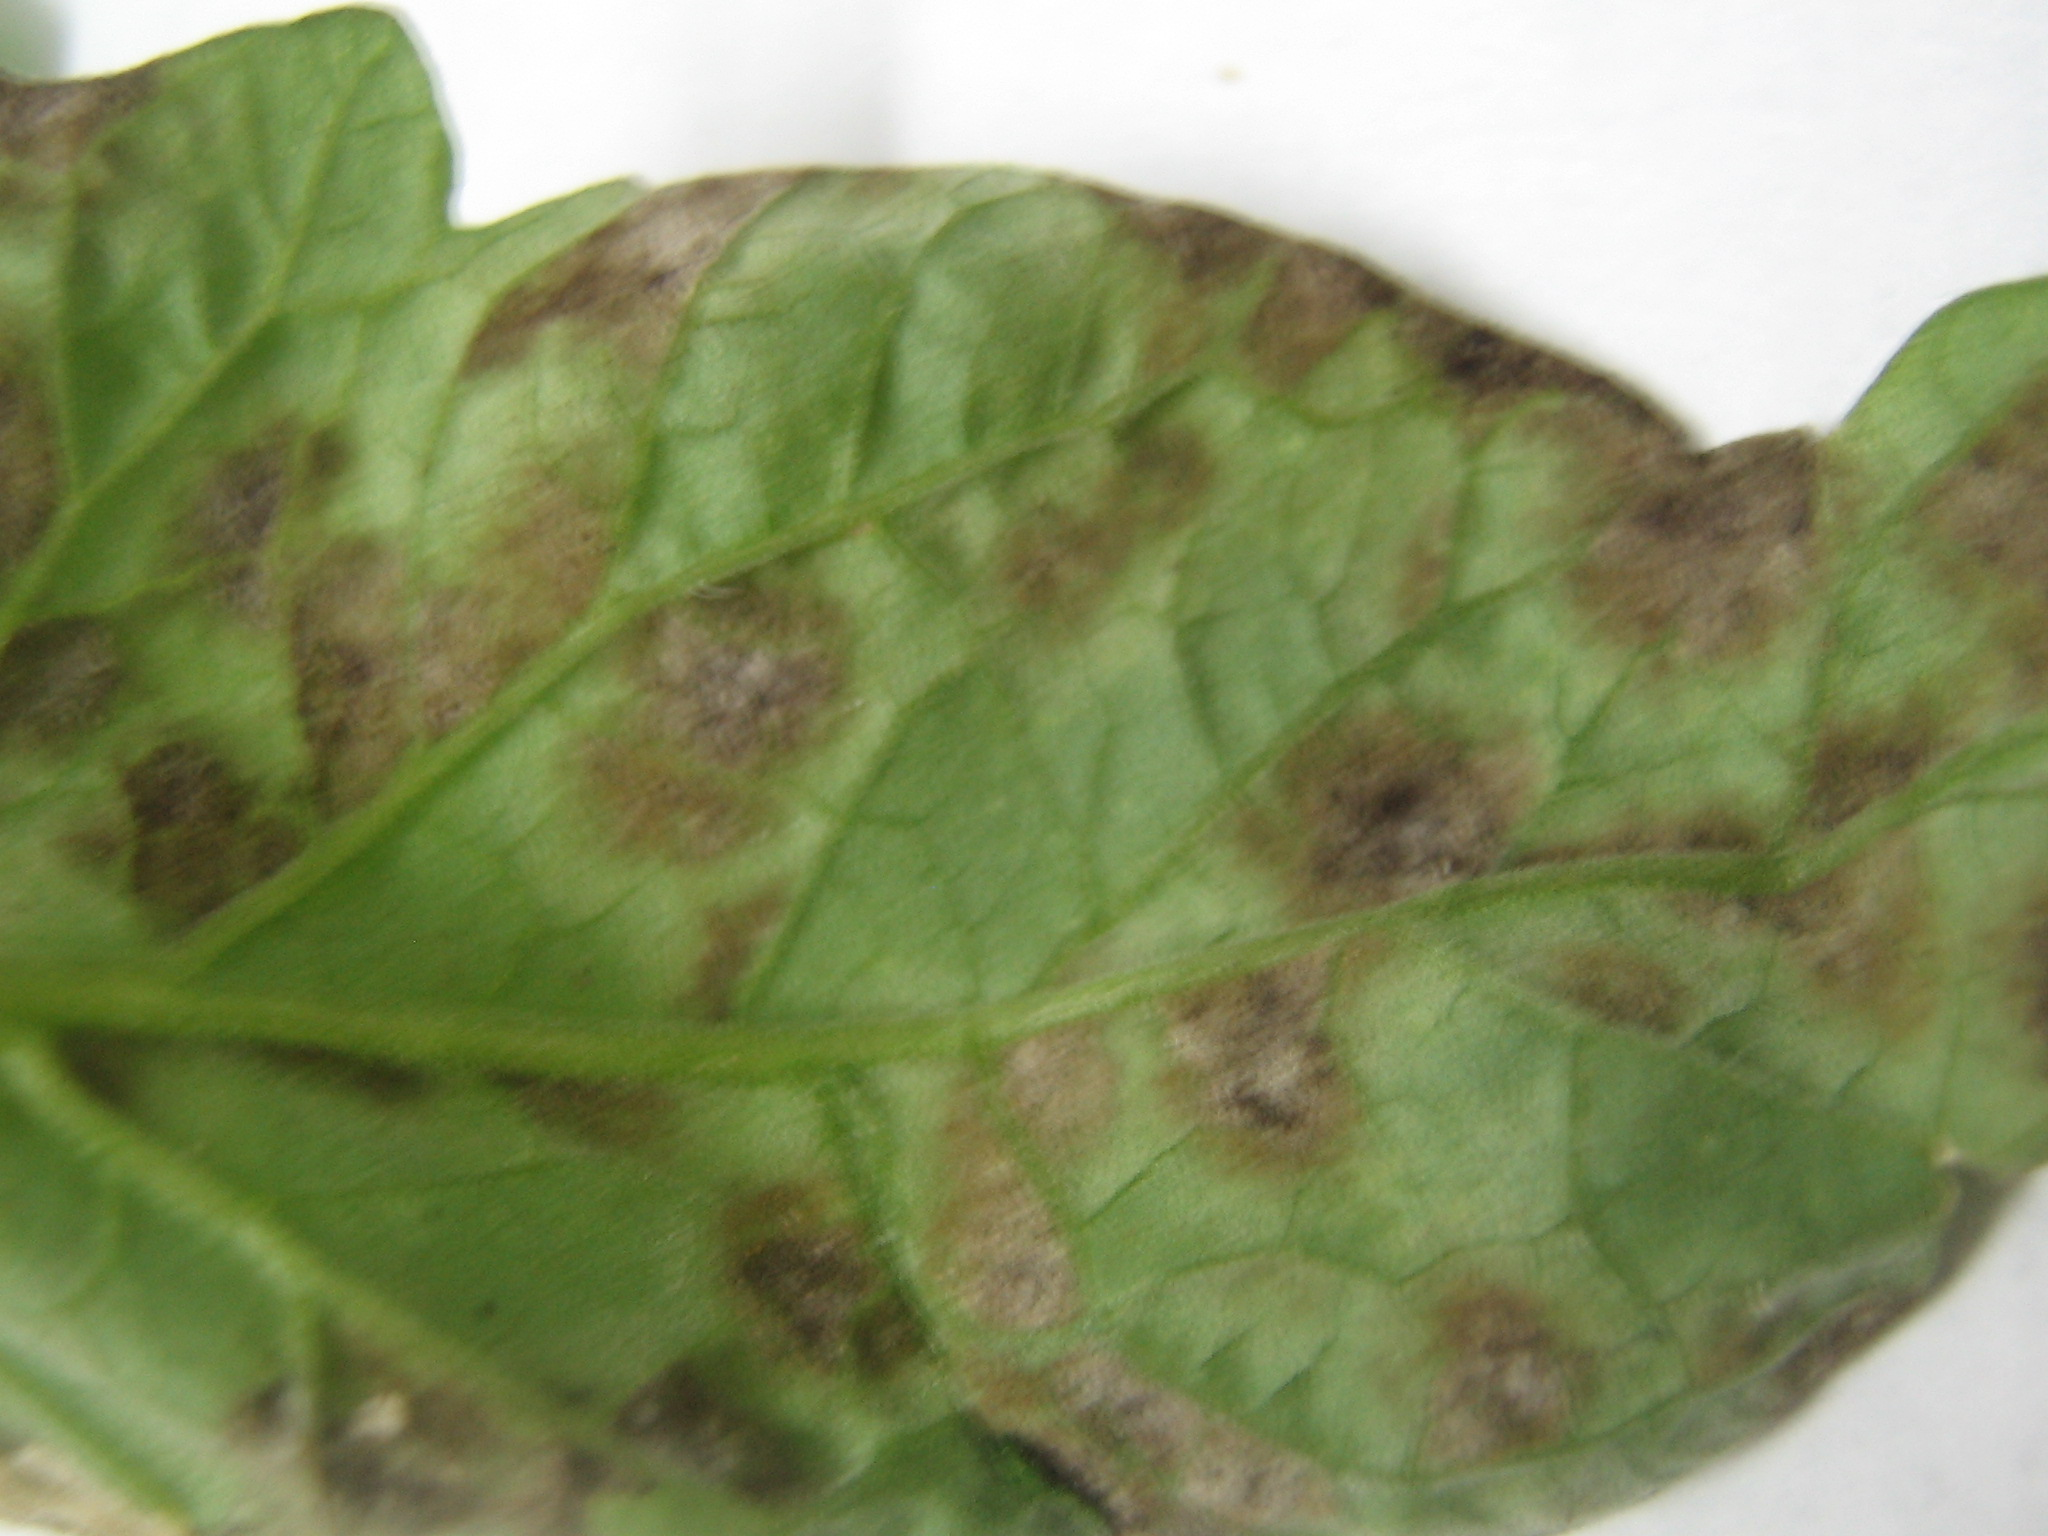negra: (1419, 390, 1842, 666), (535, 600, 853, 883), (284, 549, 524, 807), (1243, 708, 1530, 913), (980, 419, 1208, 644), (1142, 950, 1364, 1171), (710, 1181, 927, 1386), (94, 749, 310, 912)
